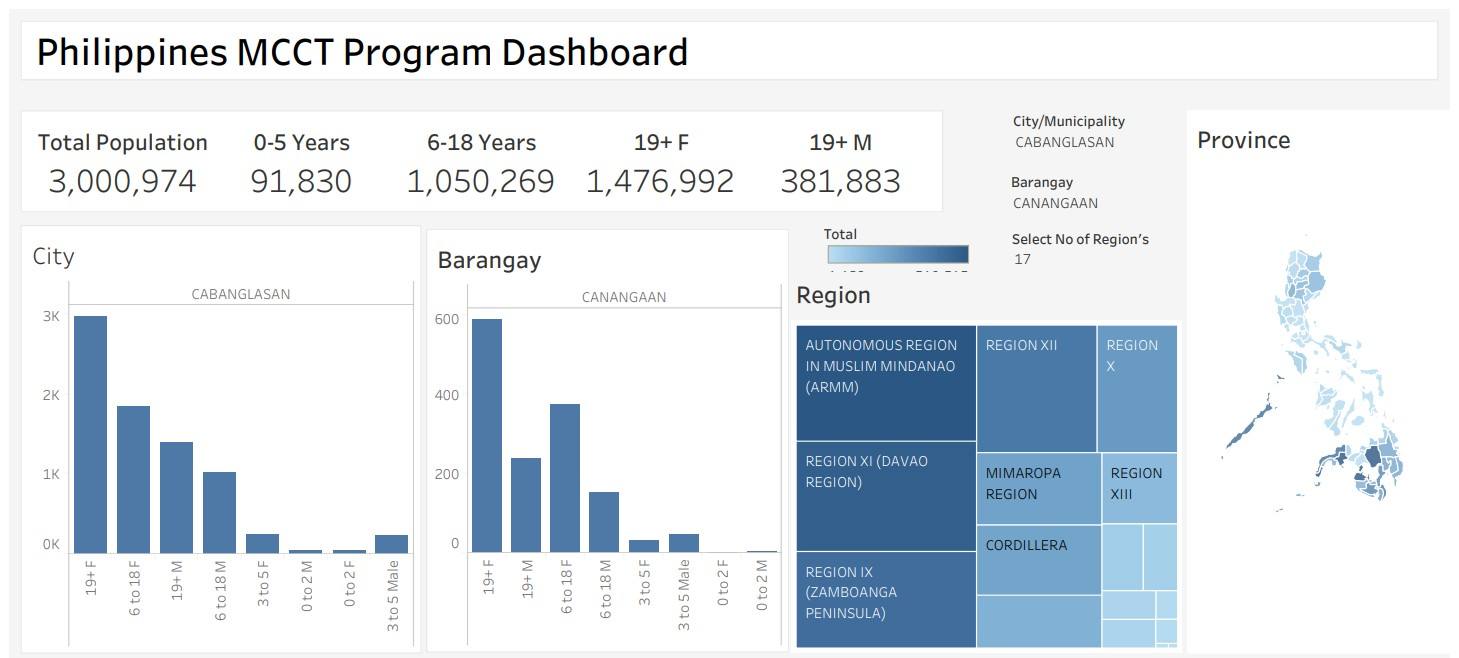

Layout of this report page (visuals, bound fields, positions):
{"tool":"tableau","page":{"name":"Dashboard 1","canvas":[1000,1000],"units":"permille","ordinal":0},"visuals":[{"type":"text","box":[0,0,1000,97.2]},{"type":"worksheet","title":"#","mark":"Automatic","box":[0,97.2,1000,127.2]},{"type":"worksheet","title":"City","mark":"Automatic","cols":["City/Municipality"],"box":[0,224.4,218.2,775.6]},{"type":"worksheet","title":"Barangay","mark":"Automatic","cols":["Barangay"],"box":[218.2,224.4,200.7,775.6]},{"type":"filter","title":"City","param":"[federated.03cqc9n1j44zlm0ztbdk000a0tvl].[none:City/Municipality:nk]","box":[508.1,224.5,104.7,80.2]},{"type":"filter","title":"Barangay","param":"[federated.03cqc9n1j44zlm0ztbdk000a0tvl].[none:Barangay:nk]","box":[654.6,224.5,104.7,80.2]},{"type":"legend","title":"Region","param":"[federated.03cqc9n1j44zlm0ztbdk000a0tvl].[sum:Total:qk]","box":[508.1,320.6,104.7,80.2]},{"type":"parameter","param":"[Parameters].[Parameter 1]","box":[654.6,320.6,104.7,80.2]},{"type":"worksheet","title":"Region","mark":"Automatic","box":[418.3,402.8,391.5,589.2]}]}

Visuals, with their boxes on the dashboard's canvas, which has no fixed pixel size, in thousandths of its width and height (x1, y1, x2, y2). These are canvas units, not pixel positions in the 1459x658 screenshot, which may show the page scaled, cropped or inside an application window:
text: box=[0, 0, 1000, 97]
"#" worksheet: box=[0, 97, 1000, 224]
"City" worksheet: box=[0, 224, 218, 1000]
"Barangay" worksheet: box=[218, 224, 419, 1000]
"City" filter: box=[508, 224, 613, 305]
"Barangay" filter: box=[655, 224, 759, 305]
"Region" legend: box=[508, 321, 613, 401]
parameter: box=[655, 321, 759, 401]
"Region" worksheet: box=[418, 403, 810, 992]
